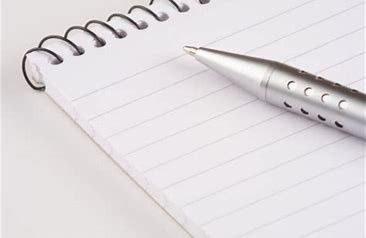pen: (179, 47, 366, 136)
